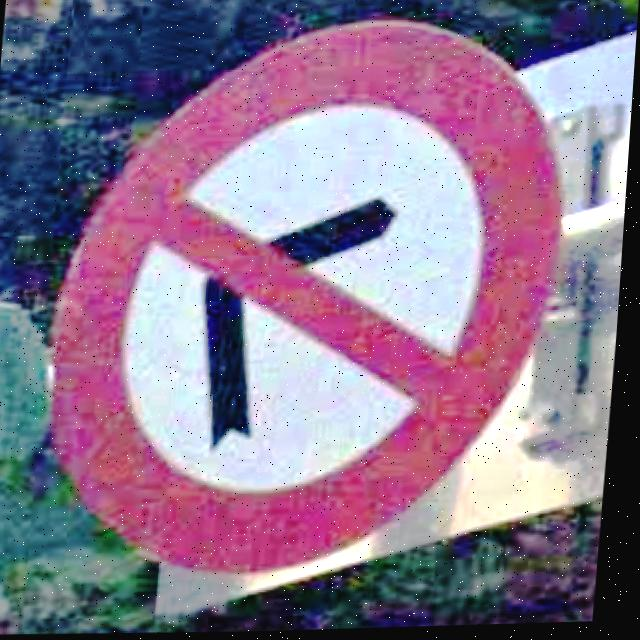noturnright: (55, 24, 568, 579)
